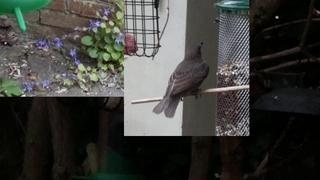starling: (152, 40, 209, 119)
